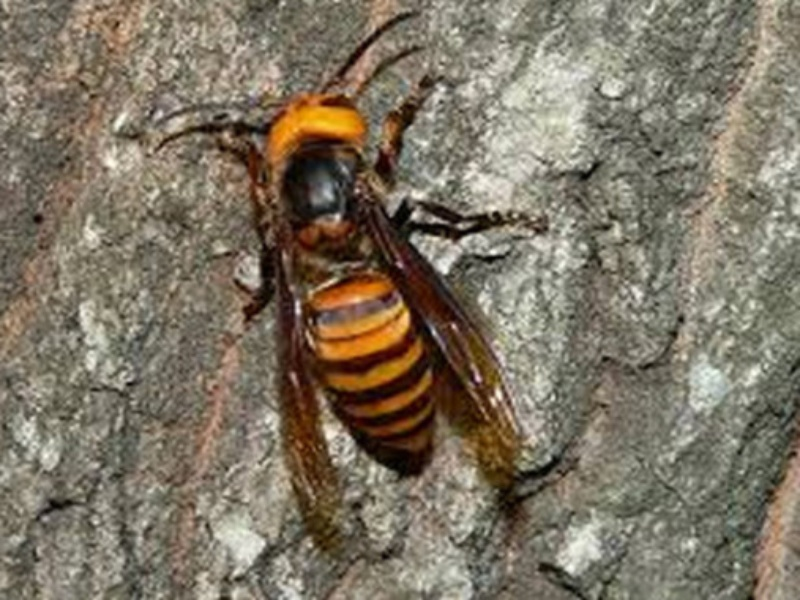asian_giant_hornet: (235, 84, 462, 456)
